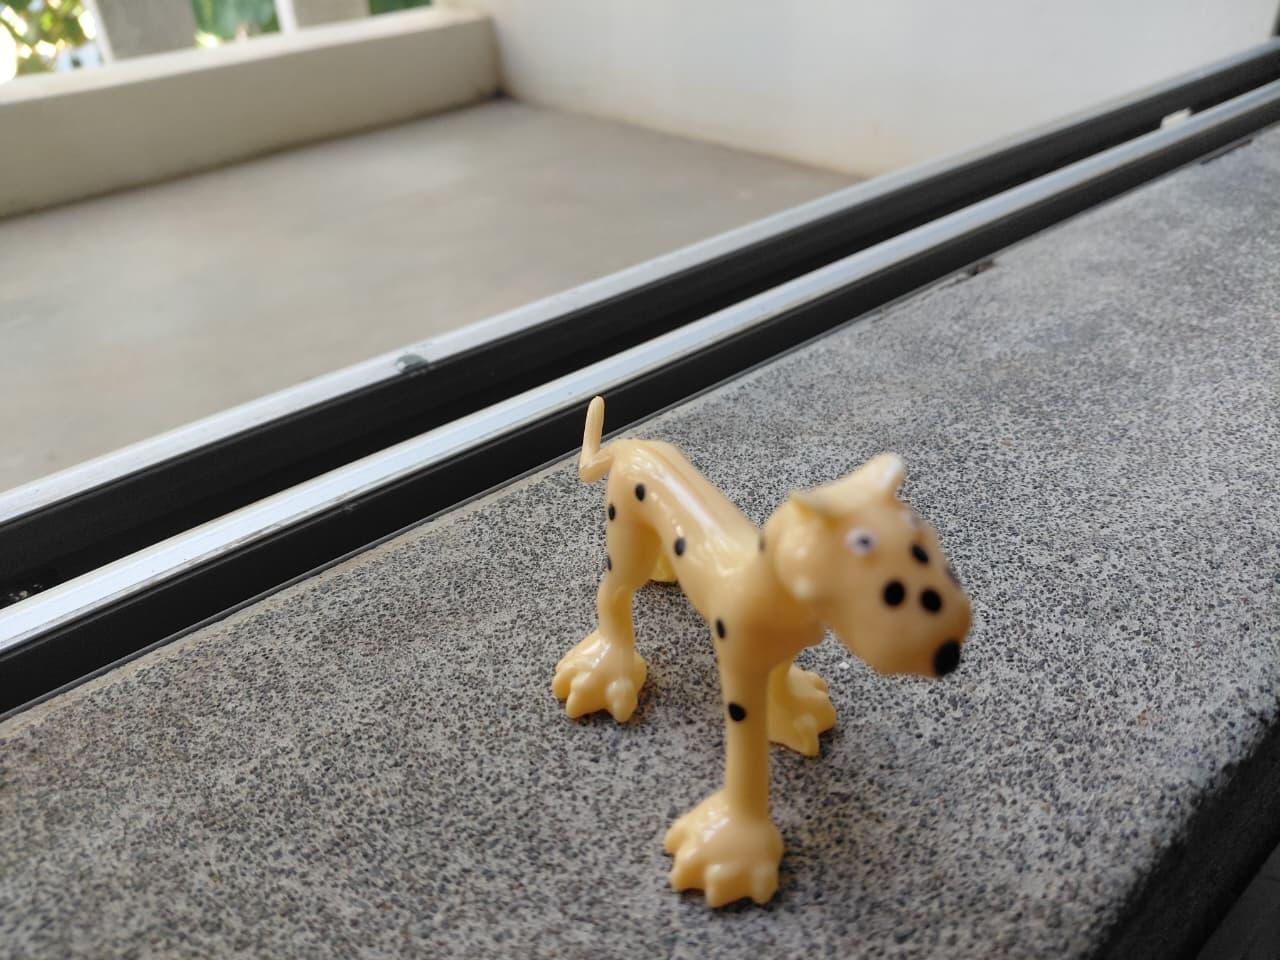cheetah: (552, 372, 1007, 899)
